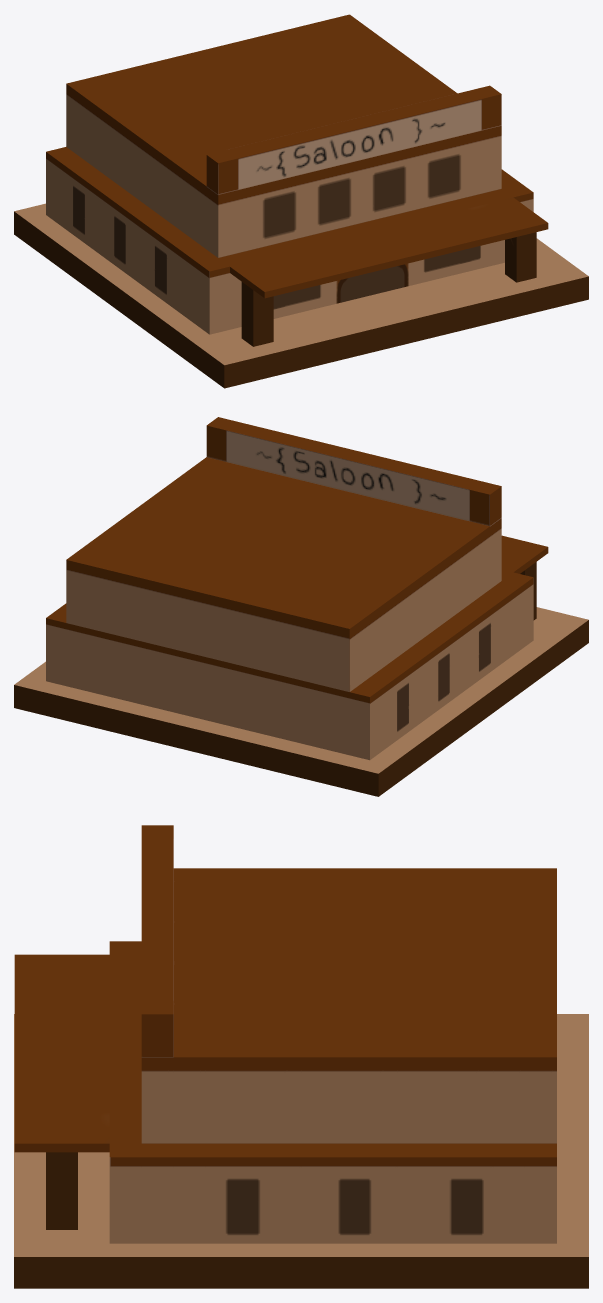
File: Saloon.fbx
3 renders of one model, top to bottom at view 1: azimuth 30°, elevation 25°; view 2: azimuth 150°, elevation 25°; view 3: azimuth 270°, elevation 25°, orthographic. The views are drawn at different scales.
Parts seen in each view (by area): view 1: pCube1; view 2: pCube1; view 3: pCube1.
Part boxes in pixels (left/top/right/bottom): pCube1: left=14, top=14, right=588, bottom=388; pCube1: left=14, top=417, right=588, bottom=796; pCube1: left=14, top=825, right=588, bottom=1288.
Bounding box in the file's own units: 0.1208 × 0.0573 × 0.1208.
